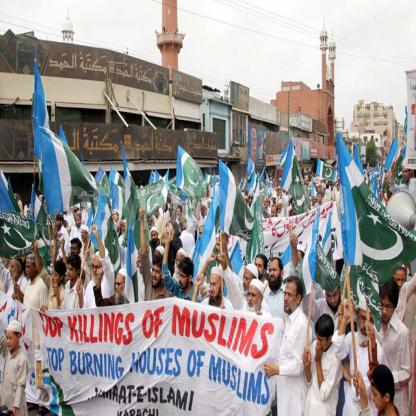face: (359, 309, 374, 336), (371, 387, 385, 413), (380, 298, 394, 322), (285, 287, 297, 314), (326, 290, 340, 309), (248, 288, 260, 308), (394, 274, 406, 293), (210, 279, 221, 299), (270, 265, 280, 285), (7, 332, 17, 351), (317, 335, 328, 352), (255, 260, 264, 280), (243, 274, 253, 292), (179, 270, 188, 290), (292, 254, 303, 270), (93, 261, 102, 280), (153, 267, 161, 287), (116, 278, 124, 297), (139, 257, 147, 274), (26, 262, 34, 279), (176, 257, 185, 272), (216, 240, 224, 256), (52, 271, 60, 286), (10, 263, 18, 277), (68, 265, 75, 280), (71, 244, 78, 259), (167, 226, 174, 239), (200, 229, 207, 242), (403, 169, 410, 181), (152, 233, 158, 244), (156, 253, 161, 263), (76, 217, 81, 227), (201, 207, 206, 217), (272, 209, 277, 219), (22, 254, 27, 262), (113, 213, 118, 221), (148, 220, 153, 227), (83, 231, 87, 239), (57, 220, 61, 228), (177, 210, 181, 218), (278, 205, 282, 212), (319, 196, 323, 203), (155, 210, 159, 217), (43, 201, 46, 208), (166, 204, 169, 211), (313, 198, 316, 205), (310, 189, 313, 196), (27, 213, 30, 219), (17, 196, 20, 202), (208, 202, 211, 208), (322, 189, 325, 195), (265, 201, 268, 206), (273, 199, 276, 204), (279, 191, 282, 196), (316, 187, 319, 192), (33, 243, 35, 249), (318, 188, 320, 192)
